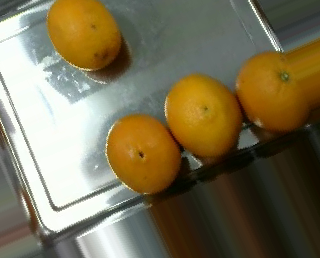Orange: (164, 72, 242, 158), (105, 113, 181, 194), (236, 50, 308, 130), (46, 1, 120, 70)
